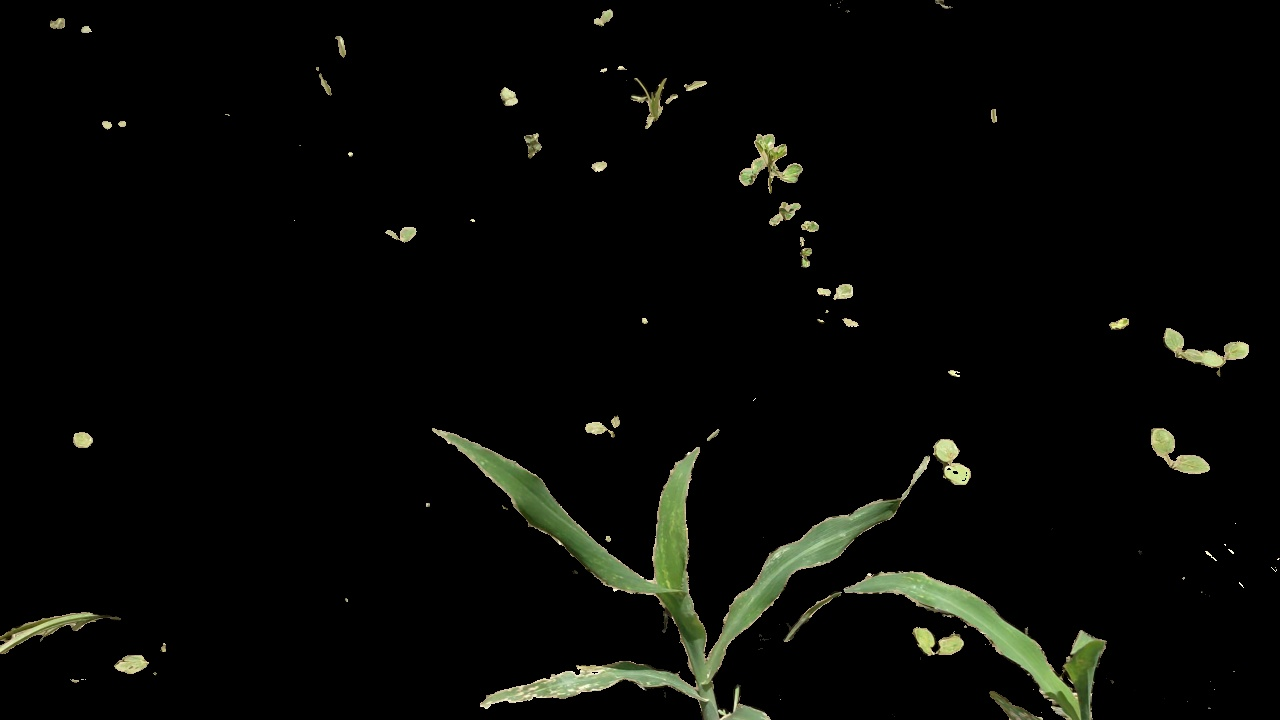crop: (401, 401, 868, 720), (813, 569, 1128, 720)
weed: (588, 59, 712, 127), (1156, 312, 1255, 391), (1136, 417, 1213, 482), (745, 124, 802, 194), (933, 431, 981, 489), (909, 624, 975, 665), (371, 215, 433, 247), (578, 415, 633, 445), (761, 201, 811, 227), (811, 278, 856, 301)
